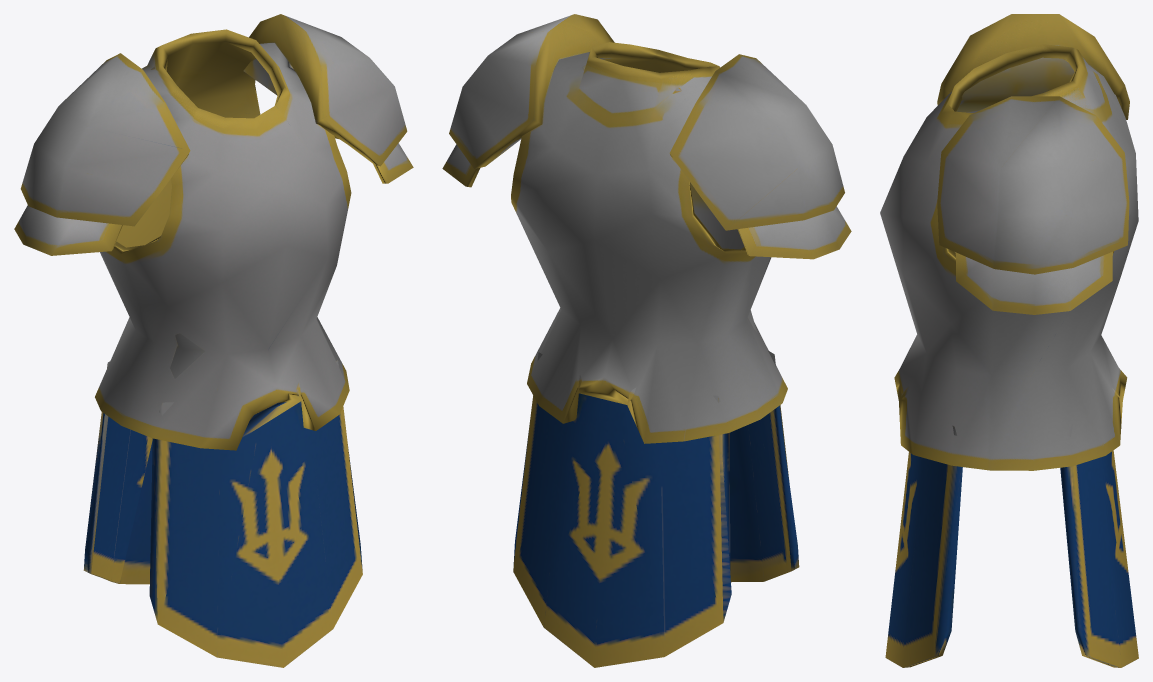
Rendered from knight_plate.glb.
3 renders of one model, left to right at view 1: azimuth 30°, elevation 25°; view 2: azimuth 150°, elevation 25°; view 3: azimuth 270°, elevation 25°, orthographic. The views are drawn at different scales.
Size of the model in its own units: 0.6509 by 0.9507 by 0.3691.
1 material, 1 textured.
